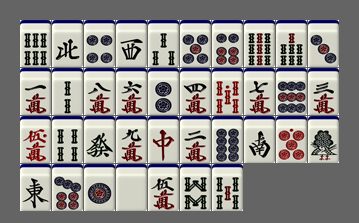0m: (20, 116, 51, 163)
0p: (276, 116, 307, 163)
0s: (212, 68, 243, 115)
1m: (20, 68, 51, 115)
1p: (84, 164, 115, 211)
1s: (308, 116, 339, 163)
1z: (20, 164, 51, 211)
2m: (180, 116, 211, 163)
2p: (148, 68, 179, 115)
2s: (52, 68, 83, 115)
2z: (244, 116, 275, 163)
3m: (308, 68, 339, 115)
3p: (308, 20, 339, 67)
3s: (148, 20, 179, 67)
3z: (116, 20, 147, 67)
4m: (180, 68, 211, 115)
4p: (84, 20, 115, 67)
4s: (52, 116, 83, 163)
4z: (52, 20, 83, 67)
5m: (148, 164, 179, 211)
5p: (180, 20, 211, 67)
5s: (212, 164, 243, 211)
5z: (116, 164, 147, 211)
6m: (116, 68, 147, 115)
6p: (212, 20, 243, 67)
6s: (20, 20, 51, 67)
6z: (84, 116, 115, 163)
7m: (244, 68, 275, 115)
7p: (52, 164, 83, 211)
7s: (276, 20, 307, 67)
7z: (148, 116, 179, 163)
8m: (84, 68, 115, 115)
8p: (212, 116, 243, 163)
8s: (180, 164, 211, 211)
9m: (116, 116, 147, 163)
9p: (276, 68, 307, 115)
9s: (244, 20, 275, 67)
